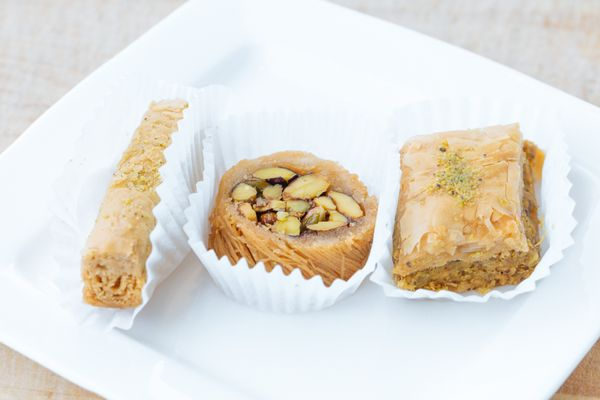sushi: (392, 121, 546, 296), (80, 95, 190, 309), (207, 148, 379, 284)
